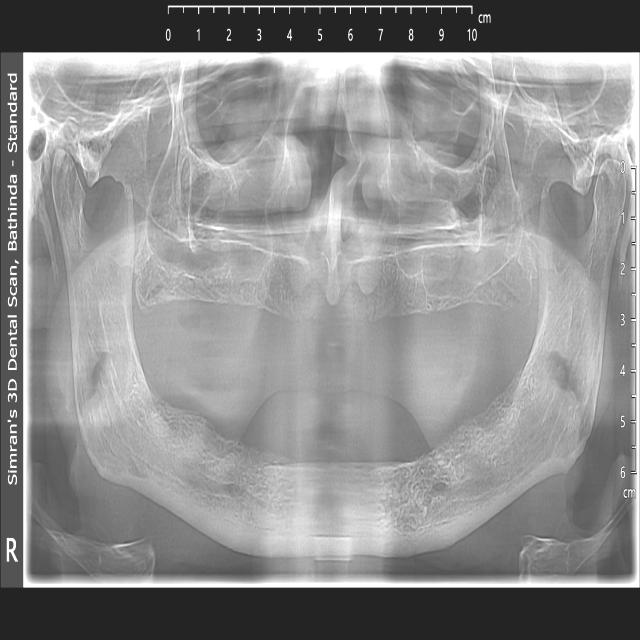Missing teeth: (168, 385, 498, 492), (165, 275, 475, 334)
